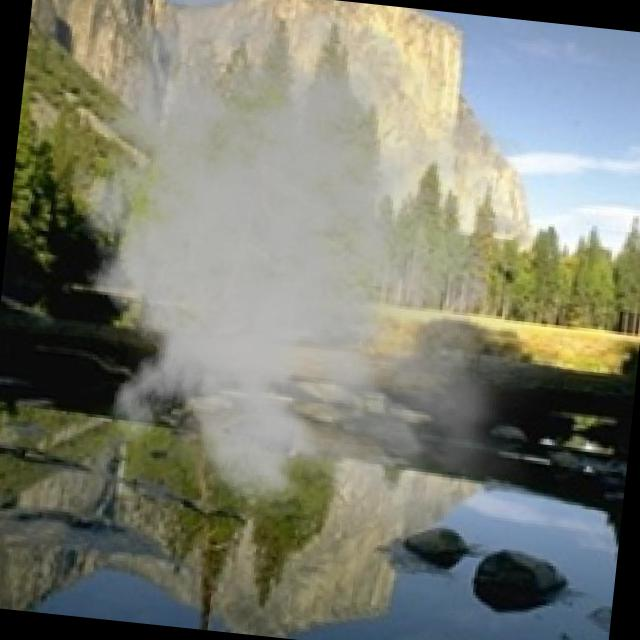Smoke: (115, 118, 392, 384)
